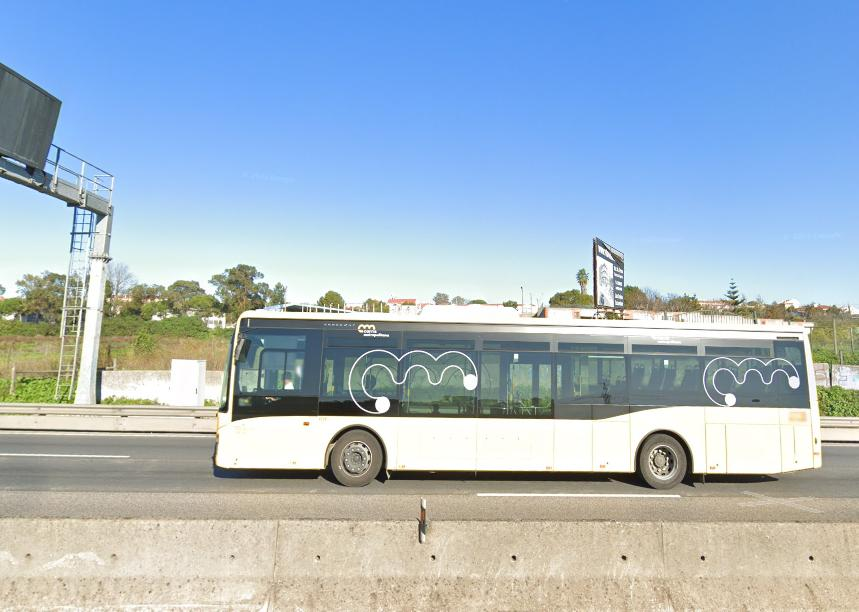vehicle: (214, 306, 822, 487)
